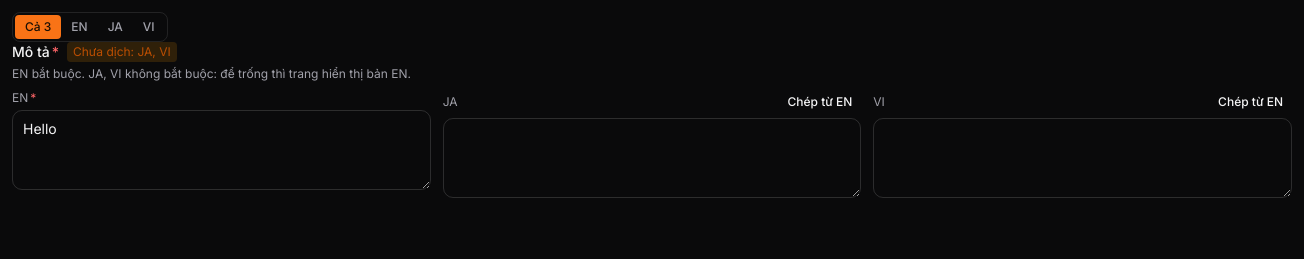
translation editing › switches language from the switch
This screenshot has width=1304, height=259.
Click the radio button labelled "VI".
click(149, 27)  # box [133,15,165,39]
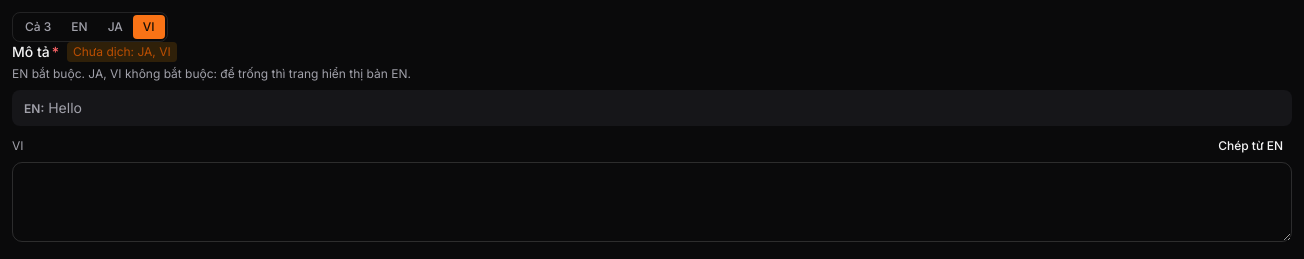
Expected: the text box with id "field-description" is shown, [12,162,1292,242]
Result: the button with id "field-description" is gone
